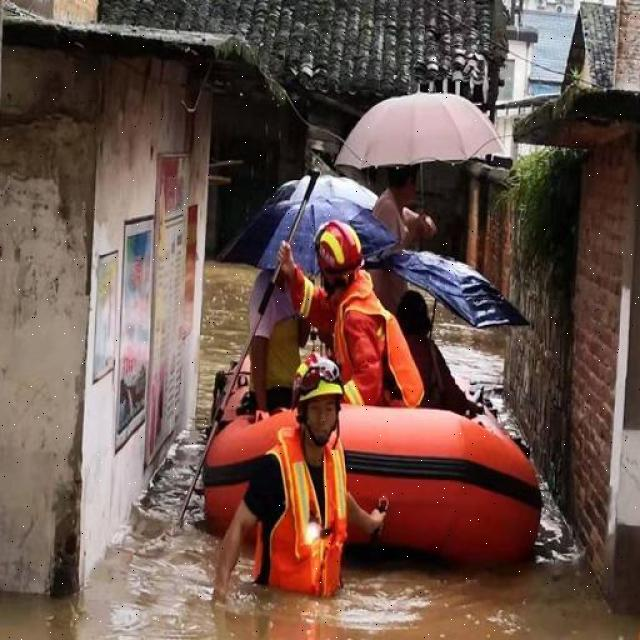rescuer: (240, 329, 397, 632), (299, 218, 418, 416)
